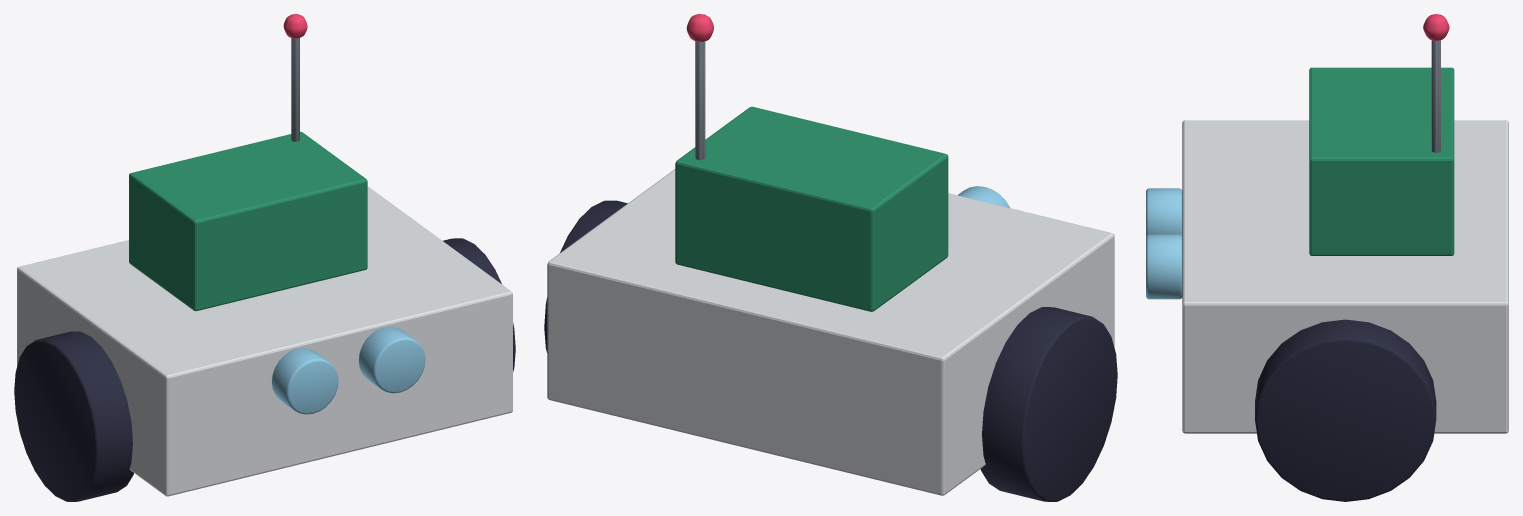
File: robot_kit.glb
3 renders of one model, left to right at view 1: azimuth 30°, elevation 25°; view 2: azimuth 150°, elevation 25°; view 3: azimuth 270°, elevation 25°, orthographic. The views are drawn at different scales.
Visible parts, largest first — view 1: robot_kit; view 2: robot_kit; view 3: robot_kit.
Boxes of the visible parts, x1,y1,x2,y2 form: robot_kit: (14, 14, 515, 501); robot_kit: (544, 14, 1117, 501); robot_kit: (1146, 14, 1508, 501).
Size of the model in its own units: 0.29 by 0.253 by 0.2.
